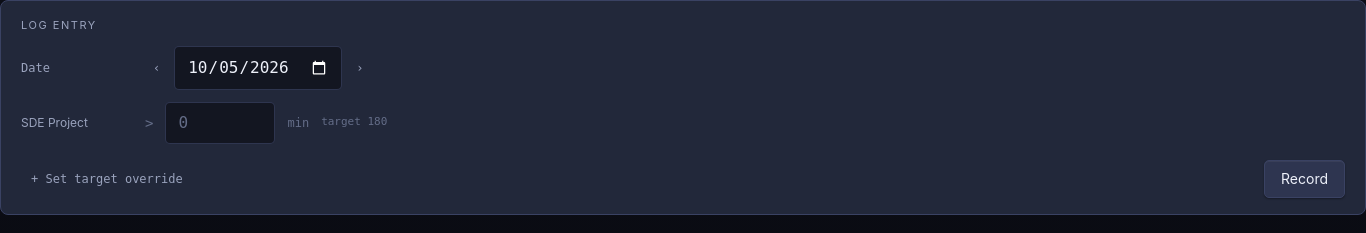
Test: LogEntryForm › steps the date when nothing is unsaved
The image size is (1366, 233).
Expected: the number field named "SDE Project minutes" is shown, [165,102,275,144]
Click the button named "Next day" at (360, 68), box [348,56,371,80]
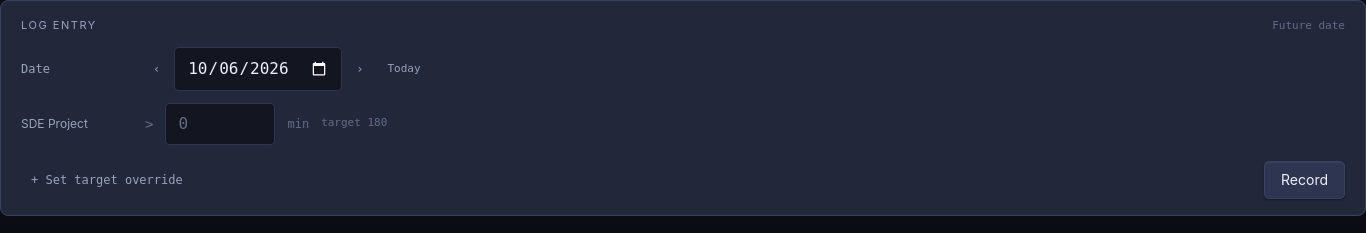
Expected: the date field named "Date" holds "2026-10-06", [174,46,342,90]
Expected: the text "Future date" is shown, [1272,18,1345,34]
